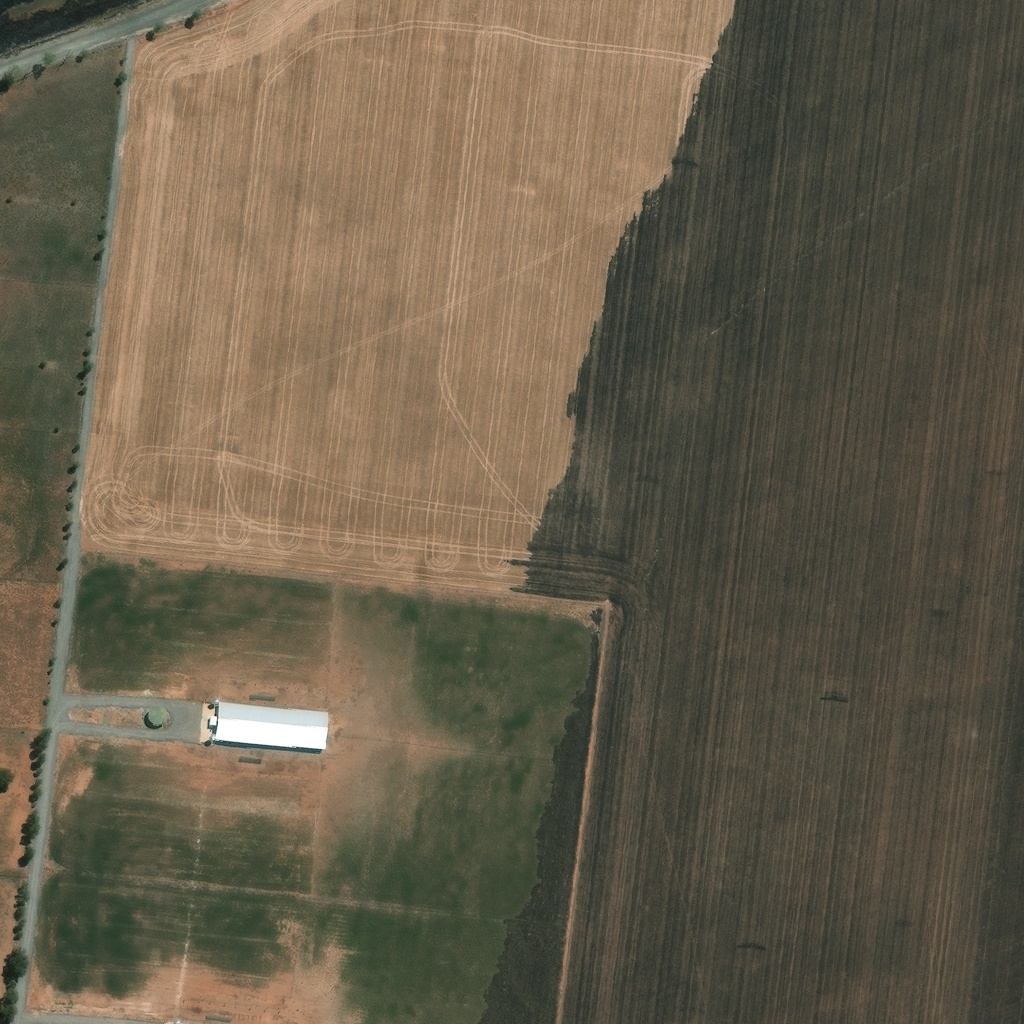0 no-damage: (208, 700, 329, 750), (147, 704, 168, 727)
